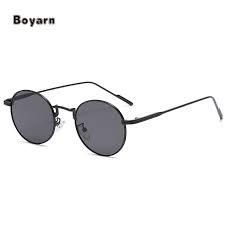spectacles: (7, 66, 138, 160)
